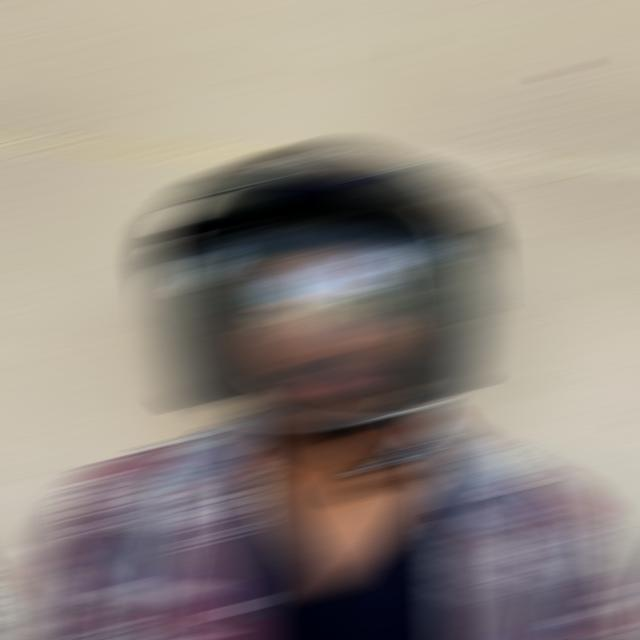With Helmet: (138, 142, 497, 424)
